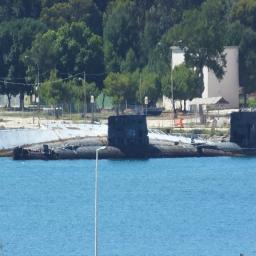submarine: (14, 104, 256, 160), (196, 110, 256, 154)
